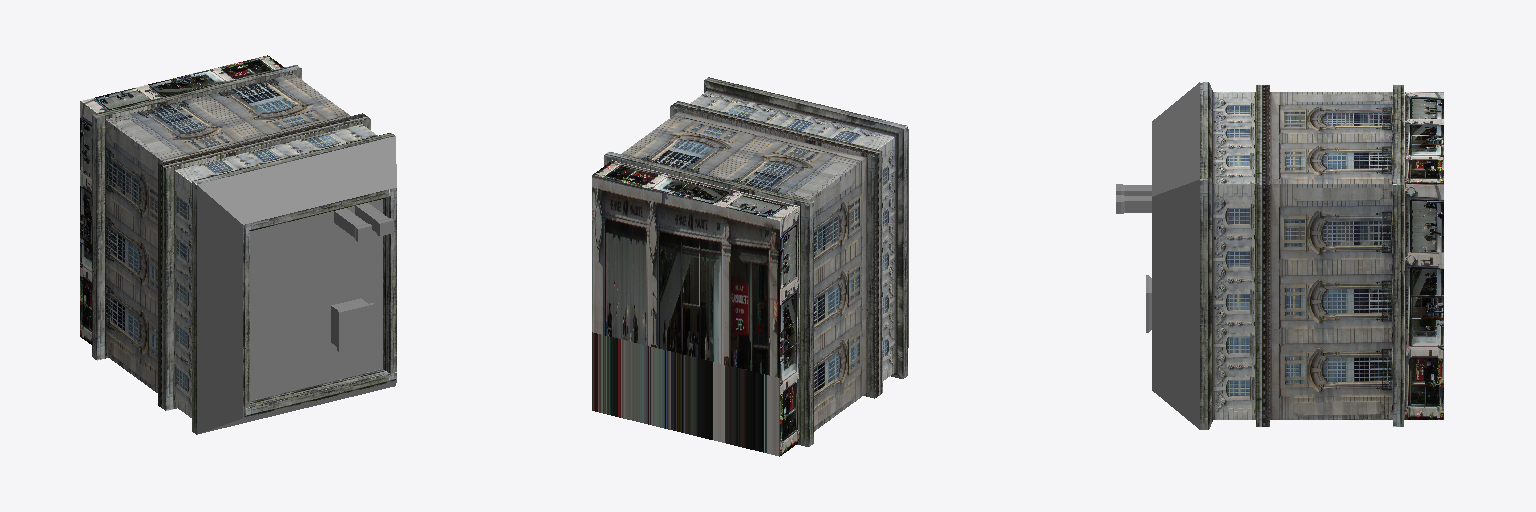
The picture shows the model from 3 angles: view 1: azimuth 30°, elevation 25°; view 2: azimuth 150°, elevation 25°; view 3: azimuth 270°, elevation 25°; orthographic projection.
Visible parts, largest first — view 1: Shops_A_01; view 2: Shops_A_01; view 3: Shops_A_01.
Part boxes in pixels (x1,y1,x2,y2): Shops_A_01: (80, 55, 396, 434); Shops_A_01: (592, 77, 908, 456); Shops_A_01: (1116, 82, 1443, 429).
Size of the model in its own units: 34.89 by 40.75 by 48.3.
Materials: 5 (3 with a texture image).